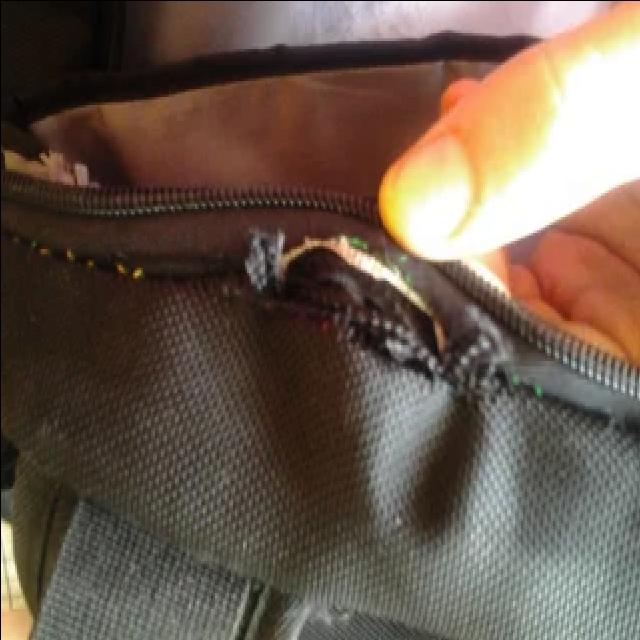Damage-bag: (0, 199, 640, 438)
